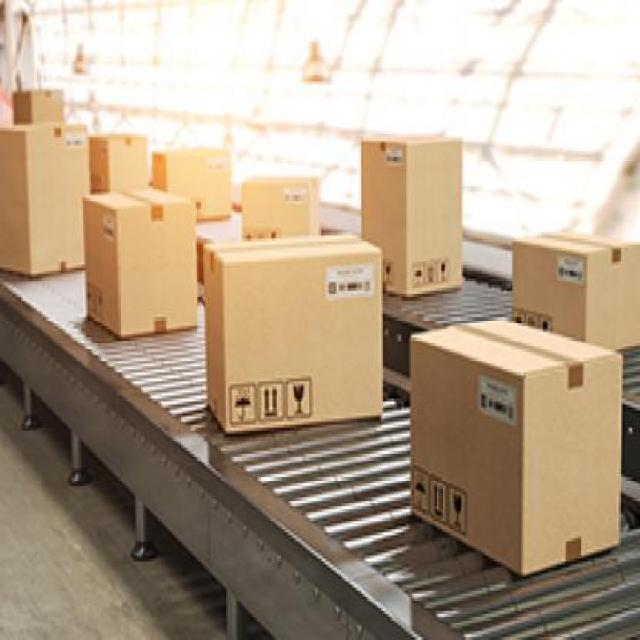box: (410, 316, 622, 576), (204, 235, 387, 436), (84, 188, 200, 336), (361, 134, 464, 296), (513, 232, 638, 352), (0, 122, 86, 276), (153, 147, 235, 220), (238, 173, 320, 237), (89, 133, 147, 190), (12, 86, 66, 128)
